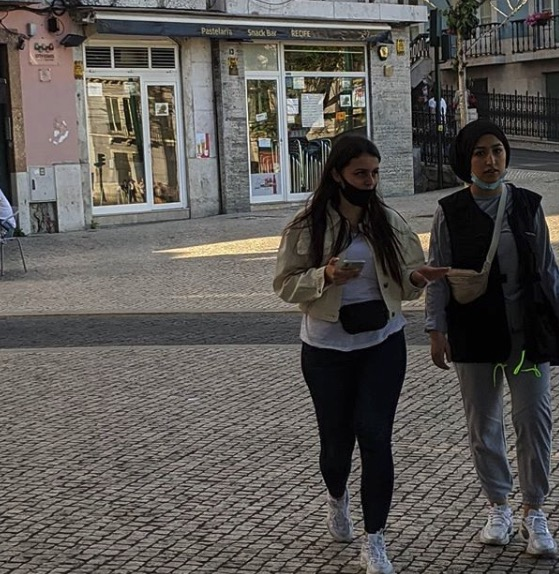mask_weared_incorrect: (468, 142, 509, 193), (342, 158, 384, 201)
